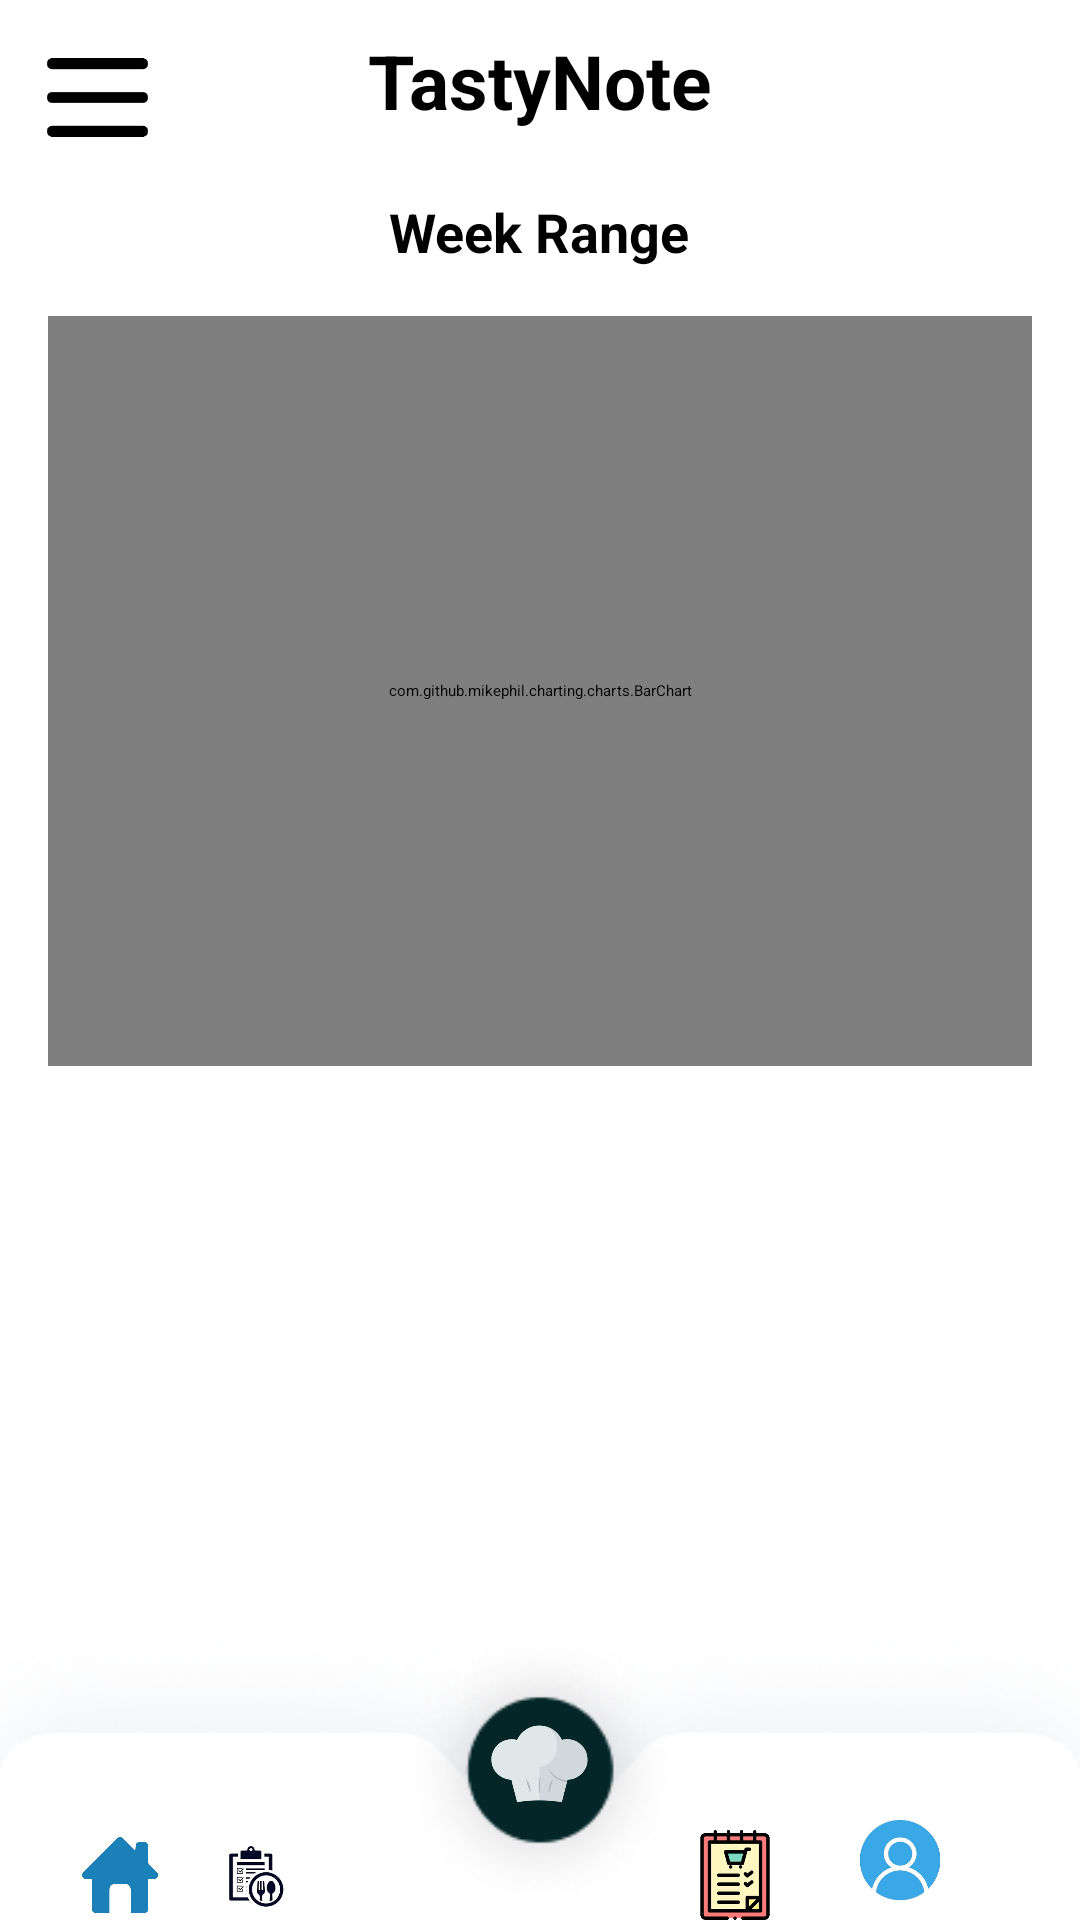

Named icons in this screenshot (1080 x 1920) and their centers, (x=x, y=y):
chef hat: (x=539, y=1764)
grocery list: (x=735, y=1875)
